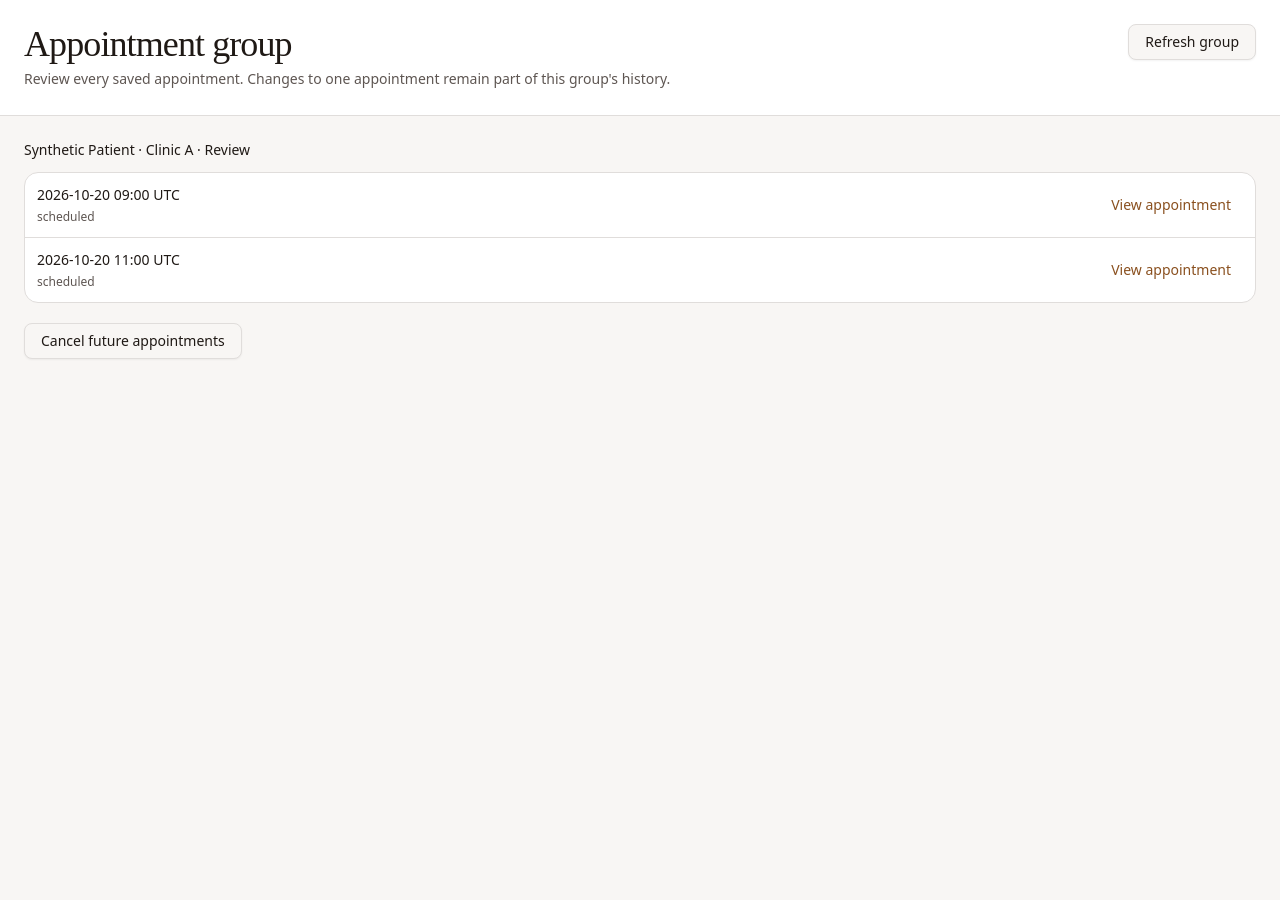
Test: appointment series through reachable pages and the real generated client › treats a changed snapshot as a definite review conflict, preserving the current group
Click the button "Cancel future appointments" at (133, 341), box [24, 323, 242, 359]
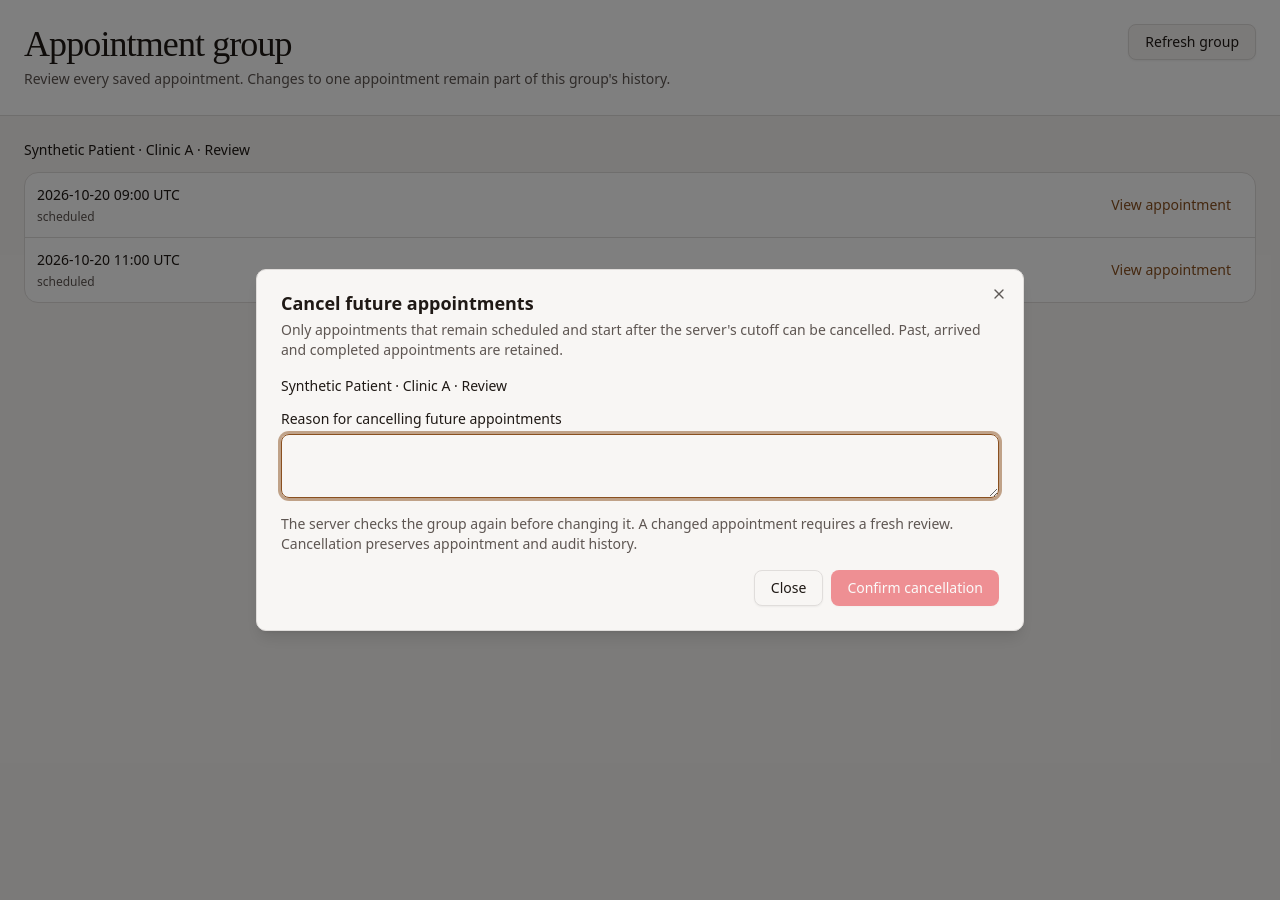
Type "Plans changed" into the text box labelled "Reason for cancelling future appointments" at (640, 466), box [281, 434, 999, 498]
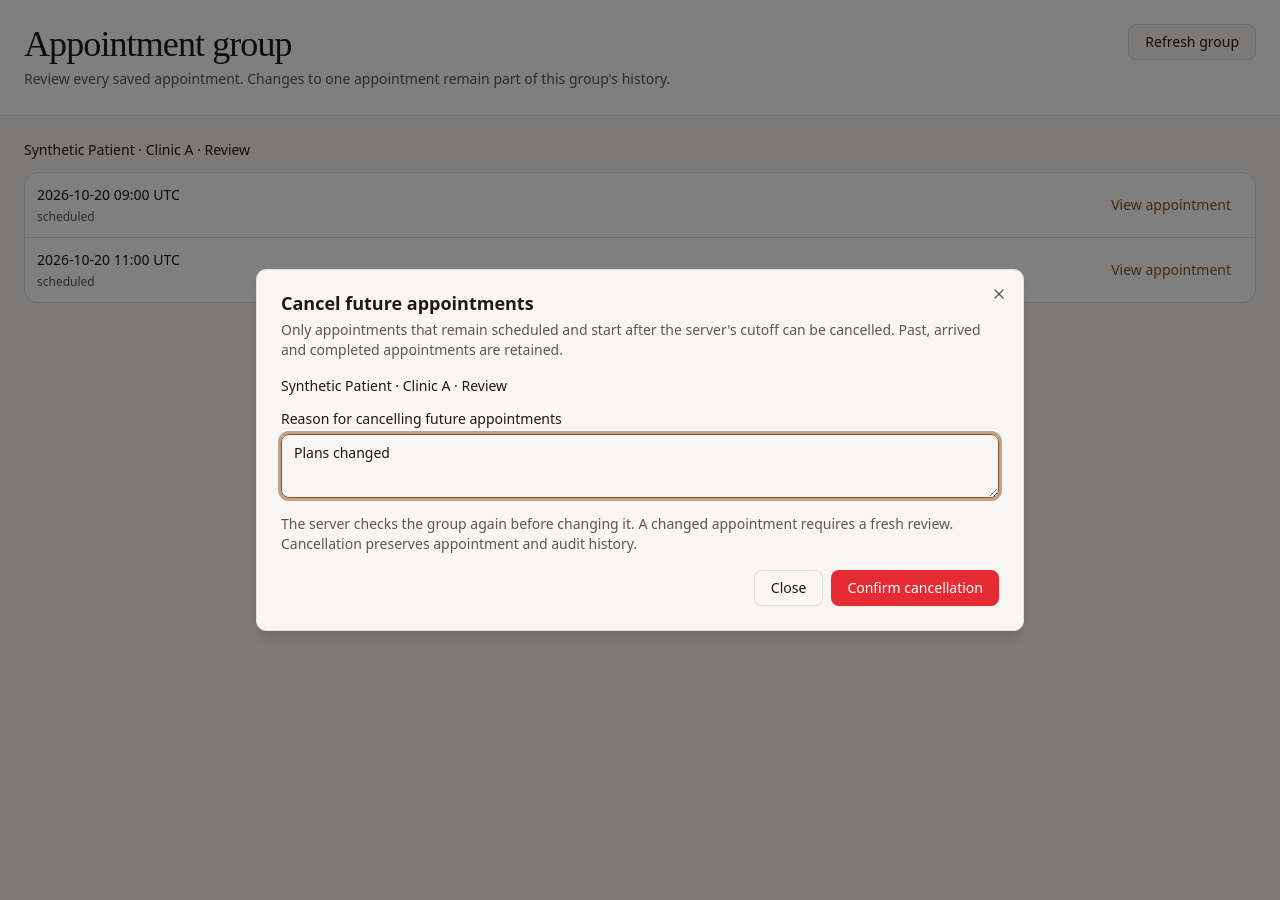
Click the button "Confirm cancellation" at (915, 588), box [831, 570, 999, 606]
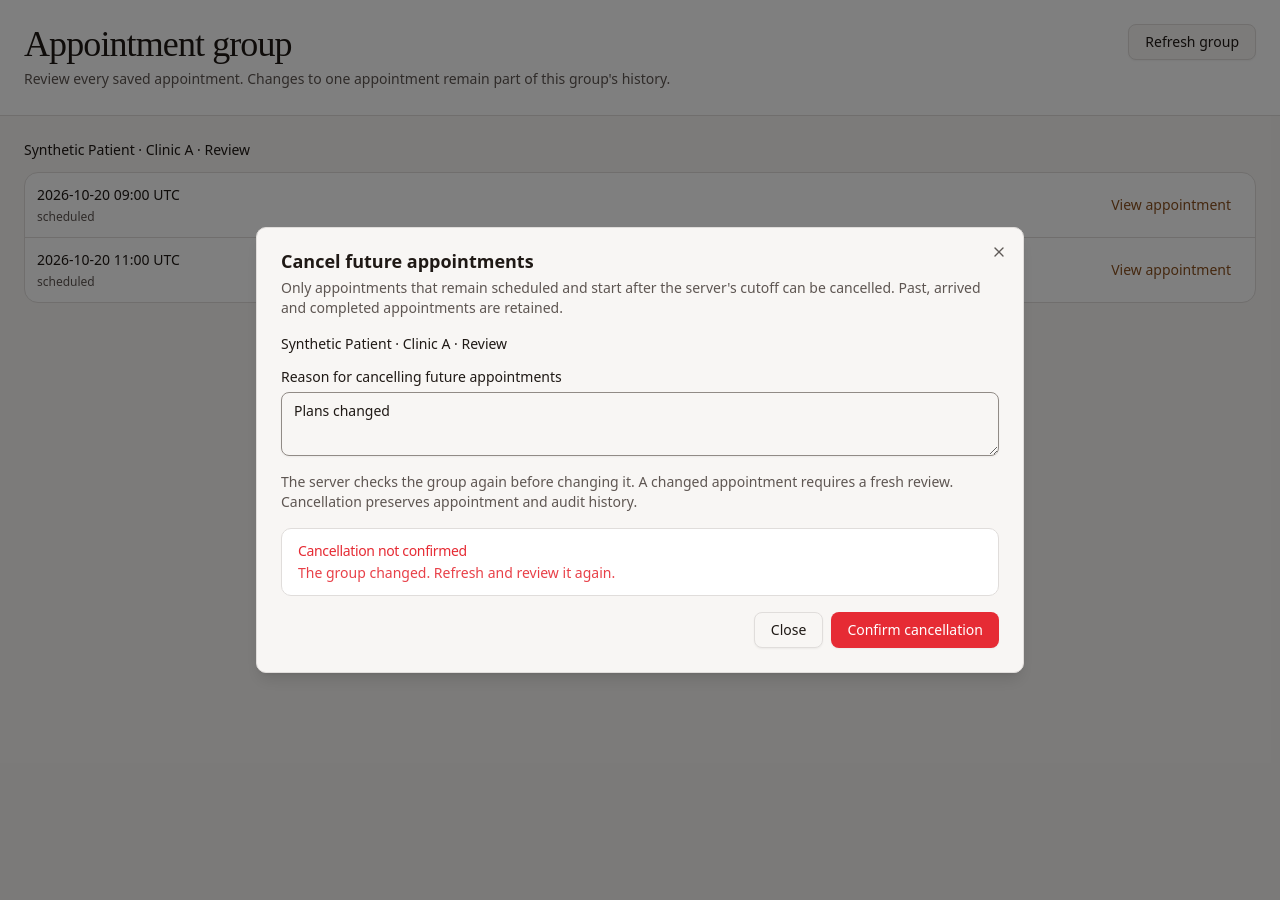
Expected: the button "Confirm cancellation" is enabled, [831, 612, 999, 648]
Expected: the text "Cancellation not confirmed" is shown, [298, 541, 467, 560]
